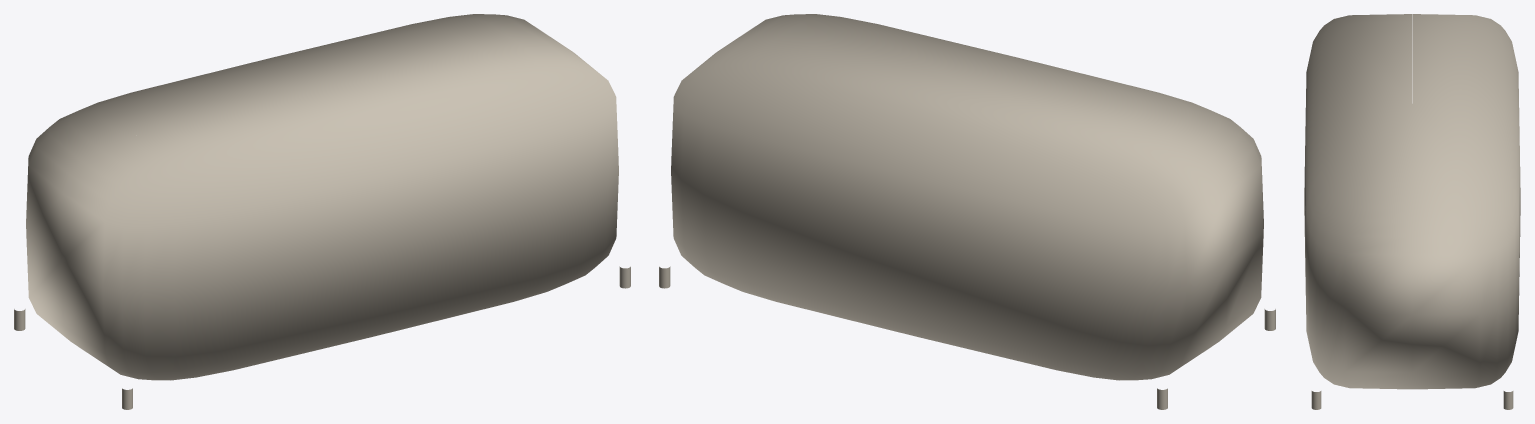
The model's file is ikea-ektorp-39299022-g2-proxy.glb.
The picture shows the model from 3 angles, left to right: view 1: azimuth 30°, elevation 25°; view 2: azimuth 150°, elevation 25°; view 3: azimuth 270°, elevation 25°; orthographic projection. The views are drawn at different scales.
Parts seen in each view (by area): view 1: proxy_body; view 2: proxy_body; view 3: proxy_body.
Part boxes in pixels (left/top/right/bottom): proxy_body: left=26, top=14, right=618, bottom=380; proxy_body: left=671, top=14, right=1263, bottom=380; proxy_body: left=1304, top=14, right=1520, bottom=389.
Bounding box in the file's own units: 2.18 × 0.88 × 0.88.
